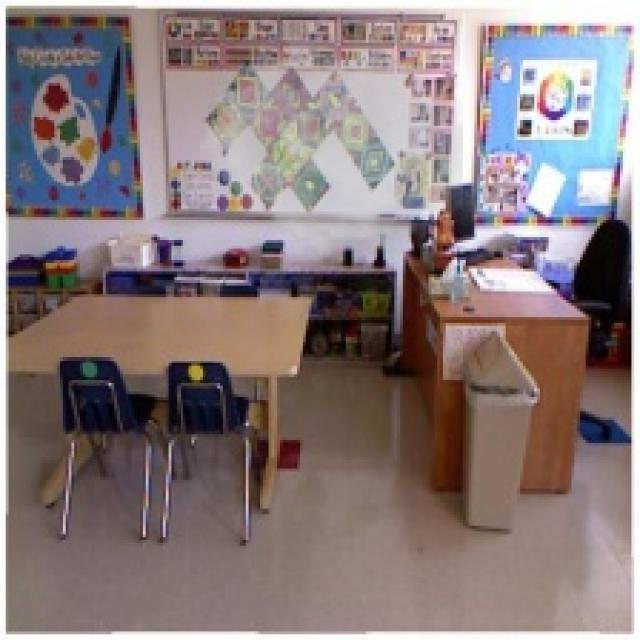Smoke: (200, 31, 463, 263)
